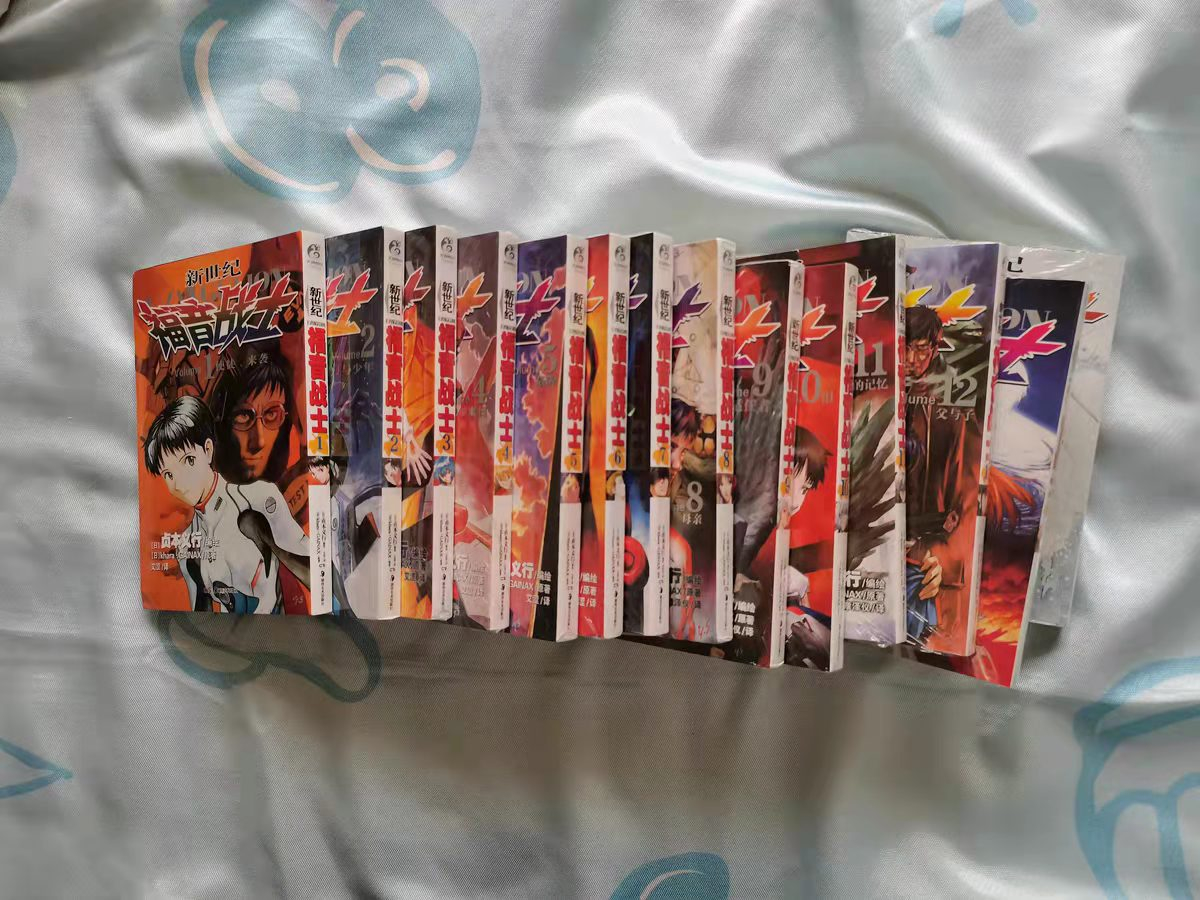book: (105, 239, 316, 622), (983, 282, 1101, 687), (1018, 247, 1147, 616), (912, 231, 1016, 655), (320, 215, 397, 618), (683, 229, 742, 655), (734, 247, 795, 659), (531, 215, 588, 647), (624, 217, 681, 639), (795, 255, 849, 681), (584, 215, 636, 643), (416, 217, 466, 645), (484, 217, 531, 647), (853, 225, 896, 671)
